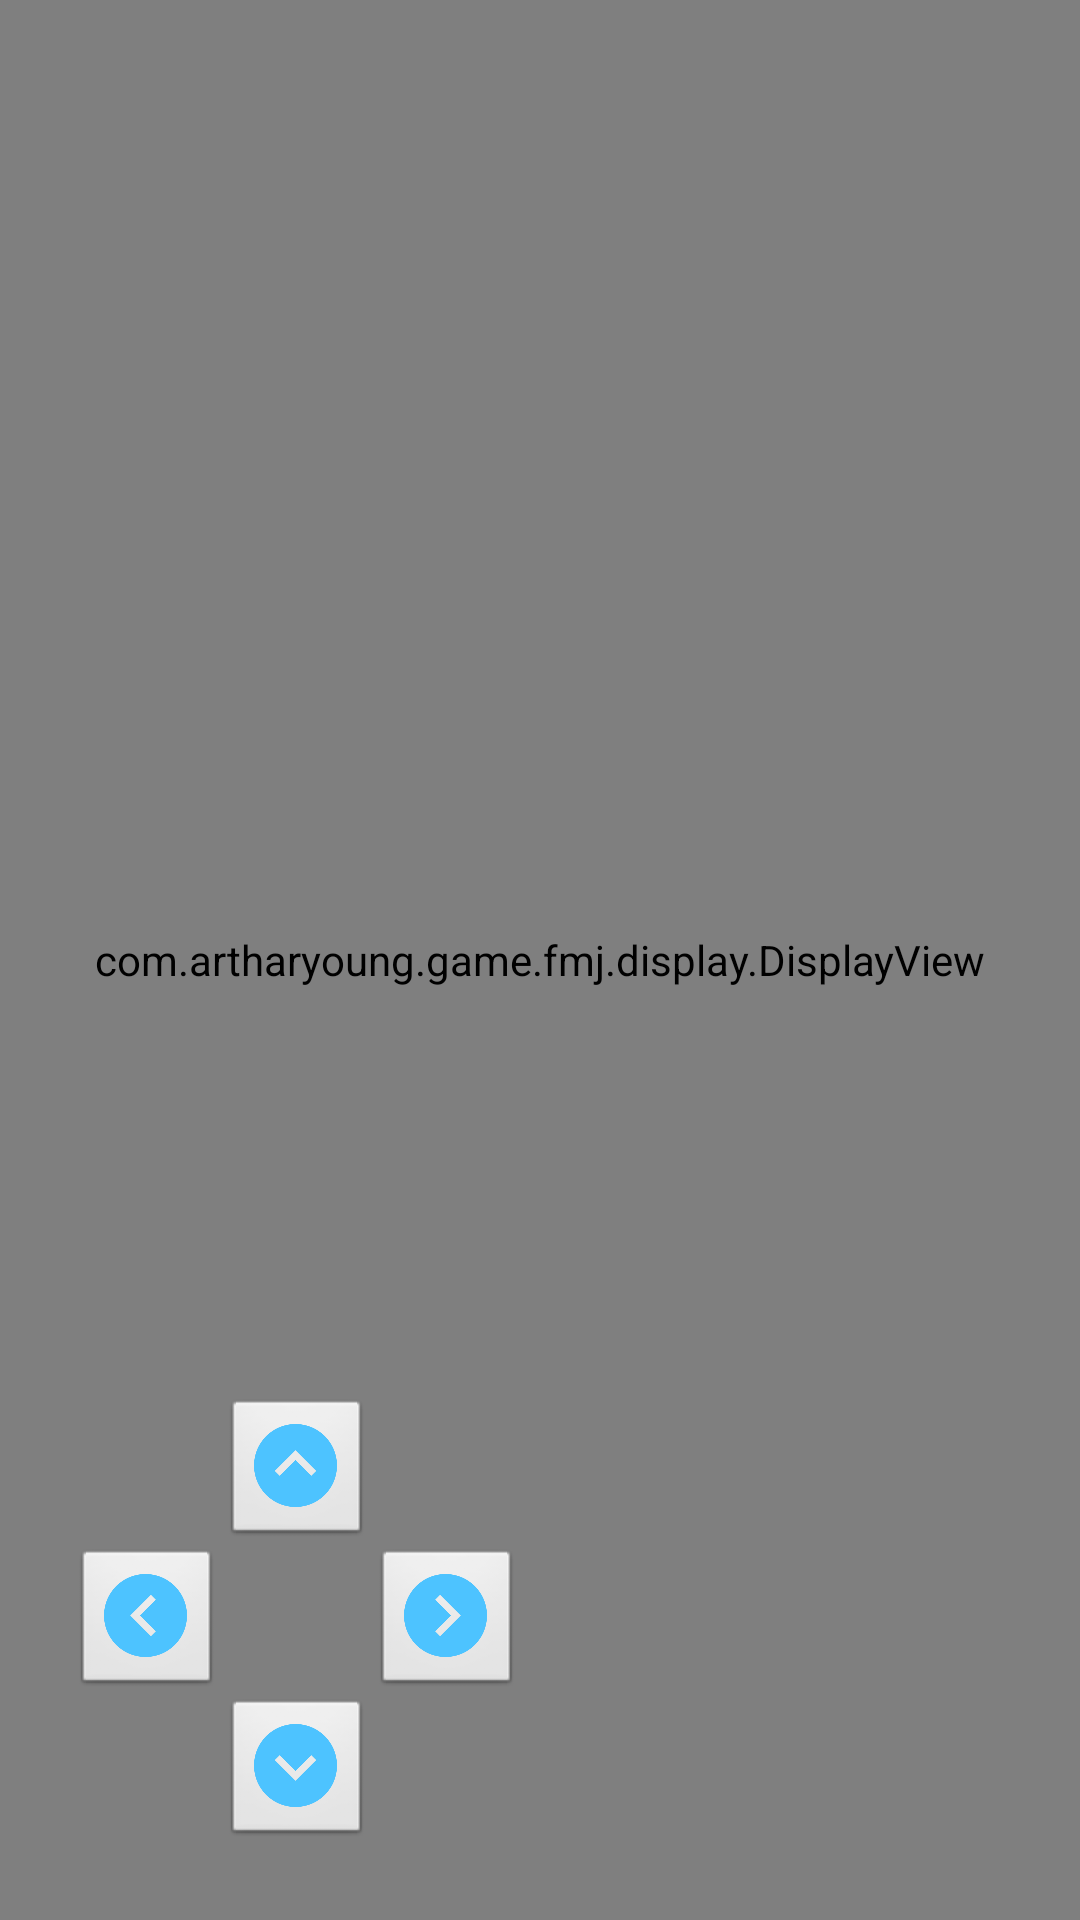

Icons on this 1080px×1920px Android screen, each with the point to tap as (x=x, y=y):
game key down: (x=296, y=1767)
game key left: (x=146, y=1617)
game key right: (x=446, y=1617)
game key up: (x=296, y=1467)
